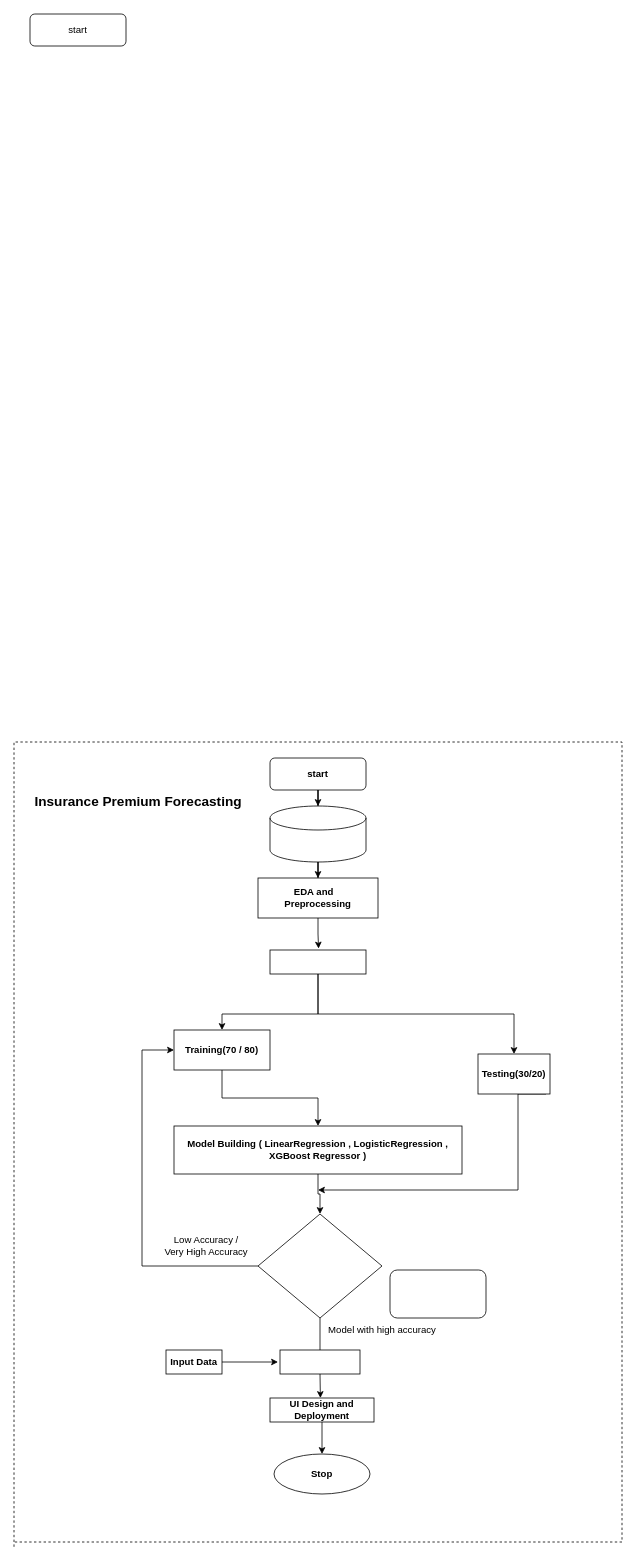
Some shapes in this 637 by 1562 pixel diagram are drawn without their labels. Here are the shapes that lost their labels. From the top down, the centre of each, then its label:
point (317, 833): Data Collection
point (317, 961): Feature Engineering and extraction
point (319, 1265): Model Evaluation on test data
point (319, 1361): Prediction
